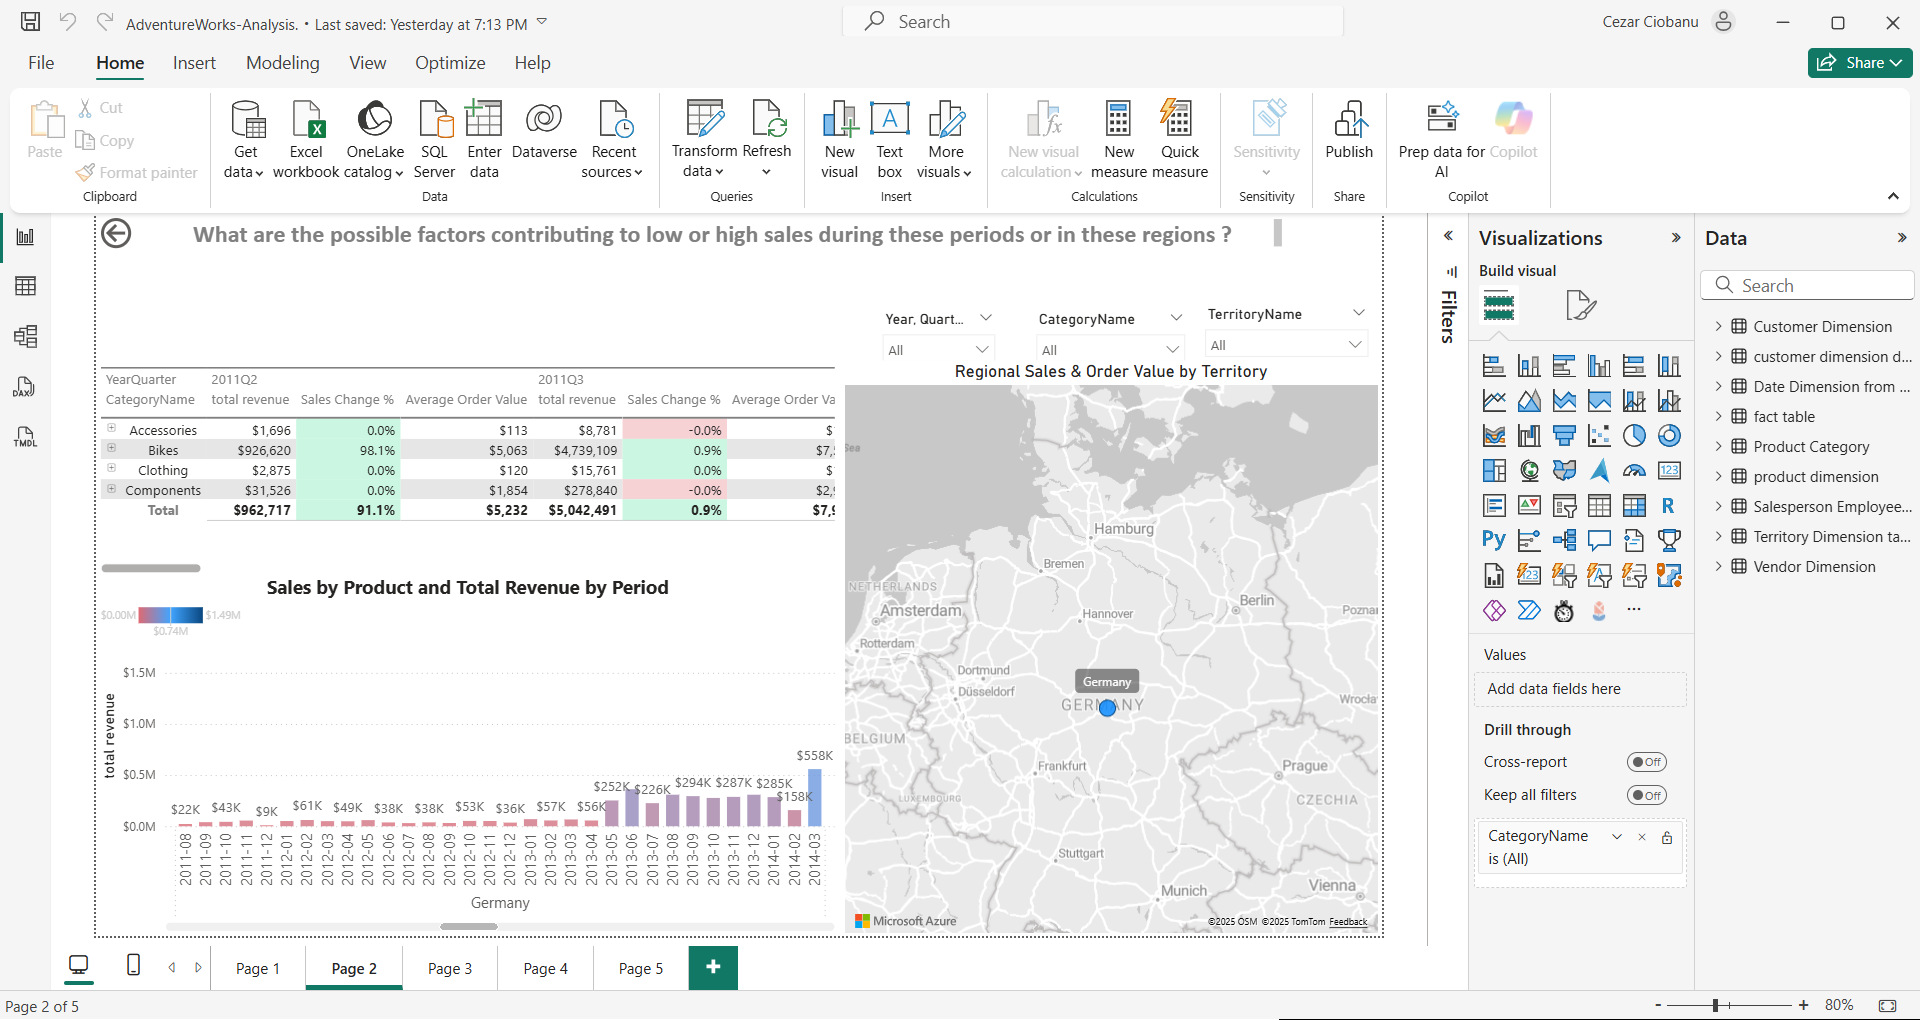

The page's visual inventory and layout, read from the dashboard file:
{"tool":"powerbi","page":{"name":"Page 2","canvas":[1280,720],"ordinal":1},"visuals":[{"type":"columnChart","title":"Sales by Product and Total Revenue by Period","fields":{"Category":["Territory Dimension table.TerritoryName","Date Dimension from orders.Period"],"Y":["fact table.total revenue"]},"box":[0,359.5,740.2,360.7],"z":0},{"type":"slicer","title":"Period","fields":{"Values":["Date Dimension from orders.Year","Date Dimension from orders.Quarter"]},"box":[772.2,92.2,132.2,56.7],"z":1000},{"type":"actionButton","box":[0,0,100,40],"z":2000},{"type":"slicer","fields":{"Values":["Product Category.CategoryName"]},"box":[925,92.5,168.8,55],"z":3000},{"type":"slicer","fields":{"Values":["Territory Dimension table.TerritoryName"]},"box":[1093.8,87.5,182.5,60],"z":4000},{"type":"textbox","box":[50,1.7,1135,38.3],"z":5000},{"type":"pivotTable","fields":{"Rows":["Product Category.CategoryName","product dimension.ProductName"],"Columns":["Date Dimension from orders.YearQuarter"],"Values":["fact table.total revenue","fact table.Sales Change %","fact table.Average Order Value"]},"box":[0,147.5,740,215],"z":6000},{"type":"azureMap","title":"Regional Sales & Order Value by Territory ","fields":{"Category":["Territory Dimension table.TerritoryName","Territory Dimension table.TerritoryGroup","Territory Dimension table.CountryRegionCode"],"Size":["fact table.total revenue"]},"box":[740,146.2,540,573.8],"z":7000}]}

Visuals, with their boxes on the page's 1280x720 design canvas (x1, y1, x2, y2). These are canvas units, not pixel positions in the 1920x1020 screenshot, which may show the page scaled, cropped or inside an application window:
"Sales by Product and Total Revenue by Period" columnChart: 0:360:740:720
"Period" slicer: 772:92:904:149
actionButton: 0:0:100:40
slicer - Product Category.CategoryName: 925:92:1094:148
slicer - Territory Dimension table.TerritoryName: 1094:88:1276:148
textbox: 50:2:1185:40
pivotTable - Product Category.CategoryName x product dimension.ProductName: 0:148:740:362
"Regional Sales & Order Value by Territory " azureMap: 740:146:1280:720
